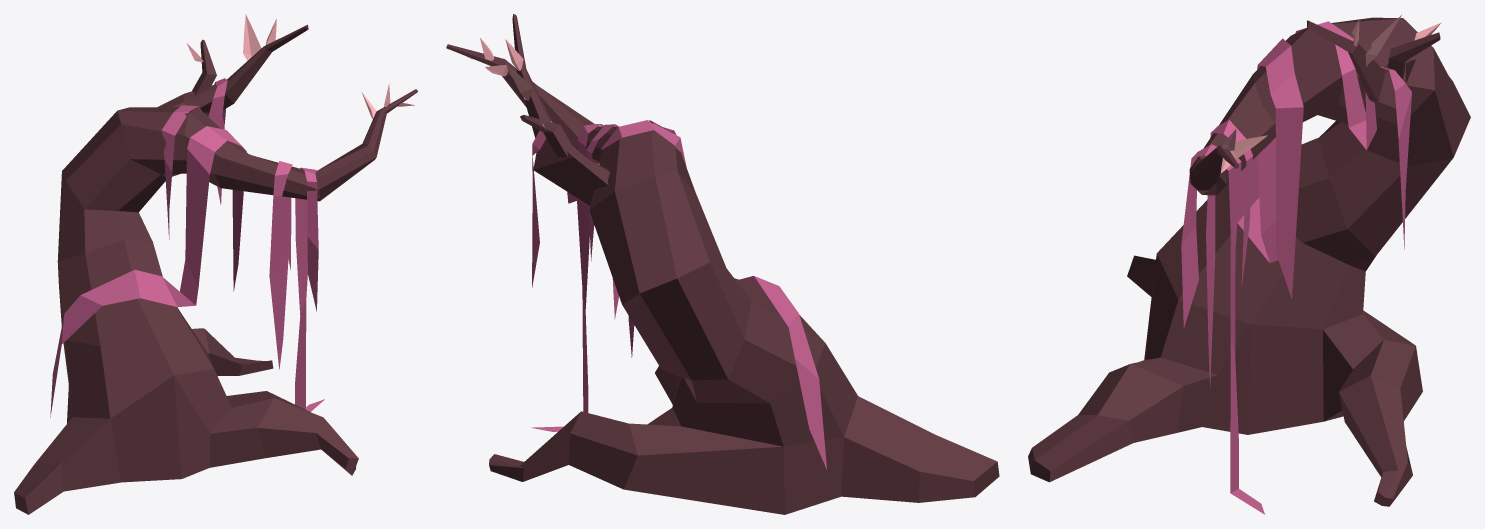
Rendered from scifi-scifi-tree-willow-big.glb.
3 renders of one model, left to right at view 1: azimuth 30°, elevation 25°; view 2: azimuth 150°, elevation 25°; view 3: azimuth 270°, elevation 25°, orthographic. The views are drawn at different scales.
Visible parts, largest first — view 1: scifi-tree-willow-big; view 2: scifi-tree-willow-big; view 3: scifi-tree-willow-big.
Boxes of the visible parts, x1,y1,x2,y2 form: scifi-tree-willow-big: [14, 14, 417, 514]; scifi-tree-willow-big: [446, 14, 999, 514]; scifi-tree-willow-big: [1028, 15, 1470, 514].
Bounding box in the file's own units: 6.28 × 5.08 × 4.13.
